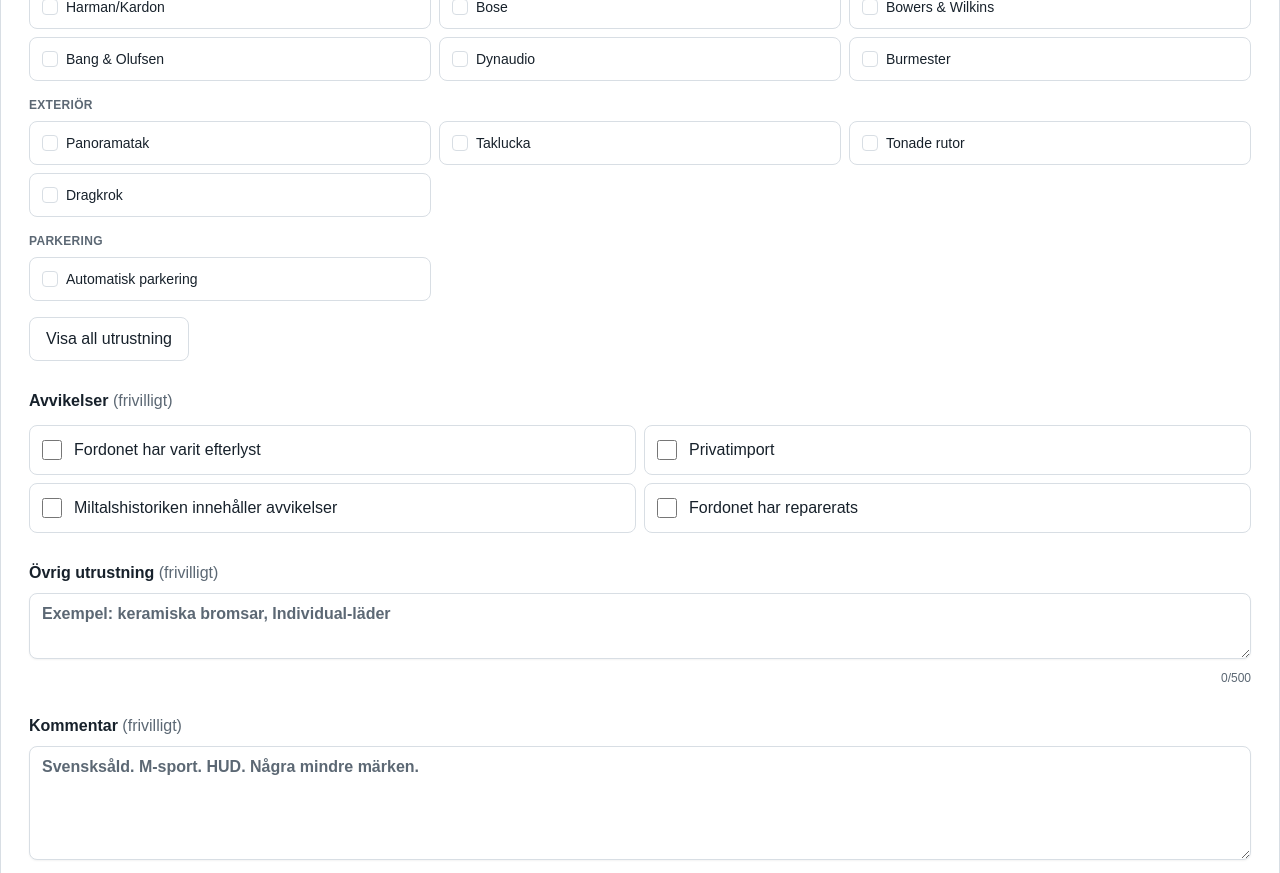
Test: VehicleListingForm image selection › shows the wanted comment only while the wanted deviation is selected
This screenshot has width=1280, height=873.
(page scrolled)
Expected: the text "Kommentar om efterlysning" is not shown
Step 1. Click the checkbox labelled "Fordonet har varit efterlyst" → coordinates (52, 450), box [42,440,62,460]
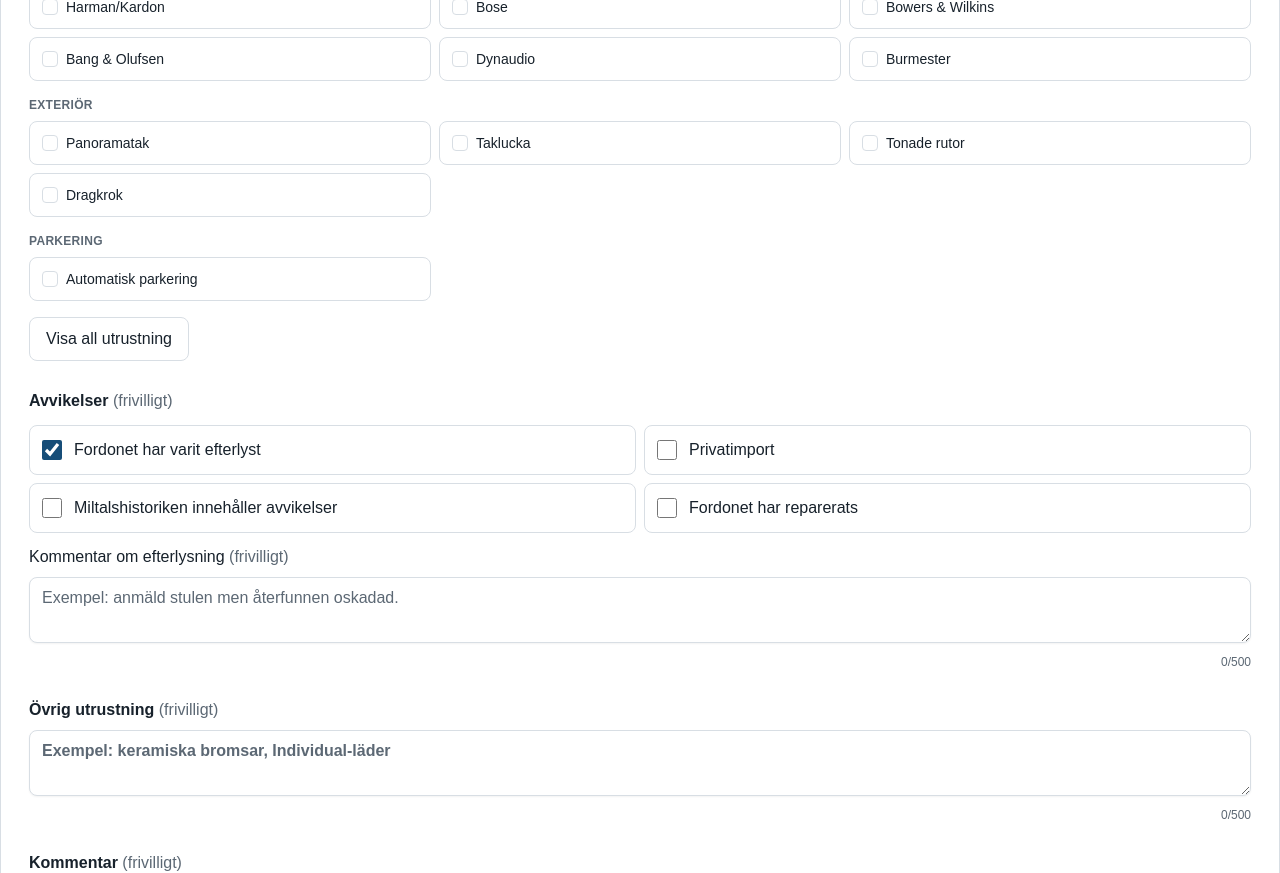
Result: the text "Kommentar om efterlysning (frivilligt) 0/500" is shown at [29,545,1251,670]
